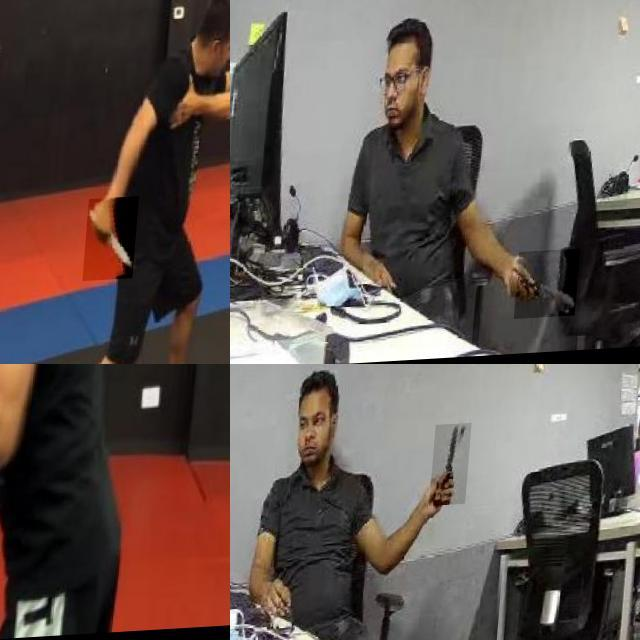-: (0, 549, 54, 640), (91, 200, 146, 284), (524, 254, 590, 324), (437, 428, 478, 510)
